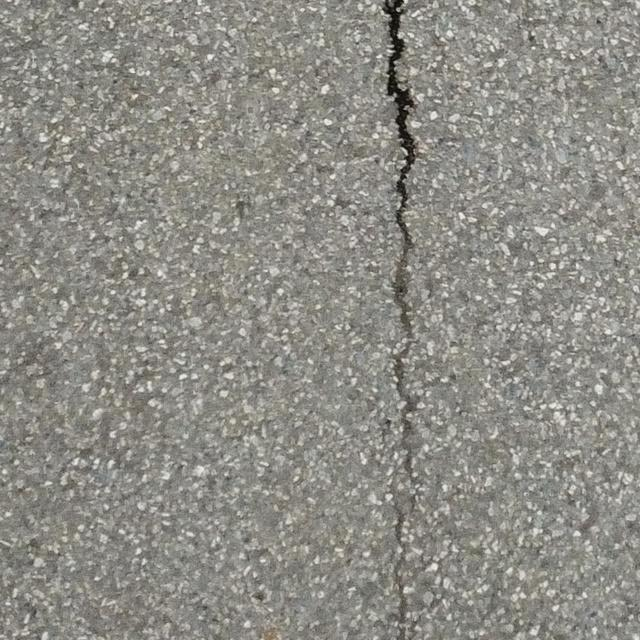LongitudinalCrack: (383, 1, 419, 468)
